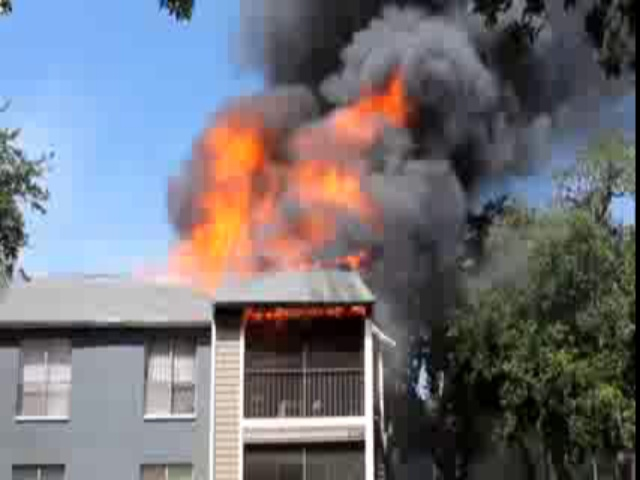fire: (165, 125, 364, 272)
